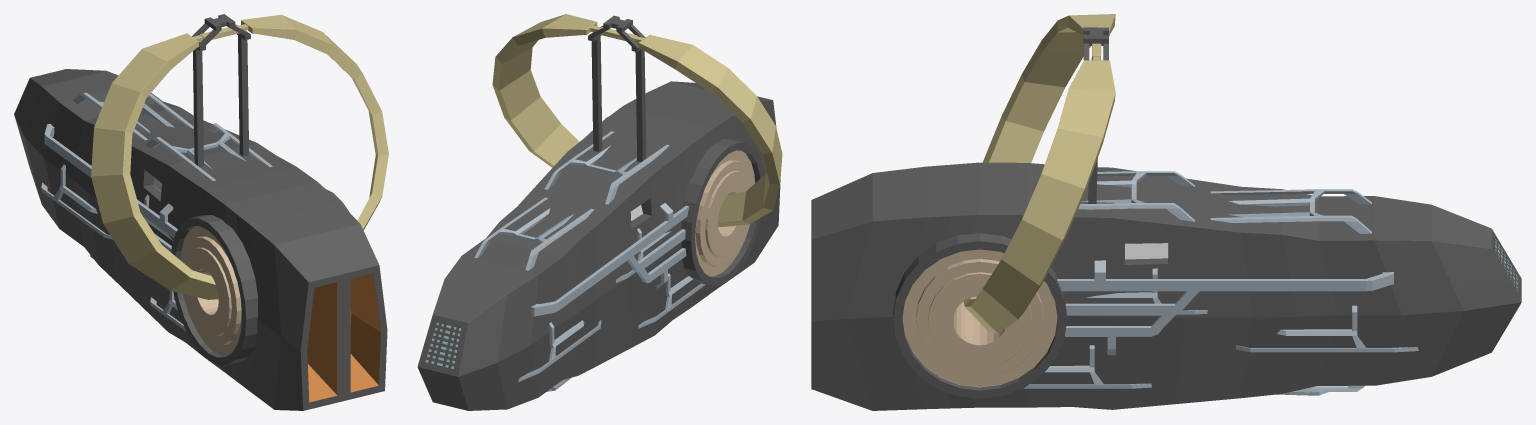
The model's file is mothership.fbx.
3 views of the same model, side by side, from view 1: azimuth 30°, elevation 25°; view 2: azimuth 150°, elevation 25°; view 3: azimuth 270°, elevation 25° (orthographic). The views are drawn at different scales.
Visible parts, largest first — view 1: Cube; view 2: Cube; view 3: Cube.
Part boxes in pixels (x1,y1,x2,y2): Cube: [14, 14, 388, 410]; Cube: [417, 14, 782, 410]; Cube: [811, 14, 1521, 410].
Size of the model in its own units: 65640 by 67224 by 122262.
